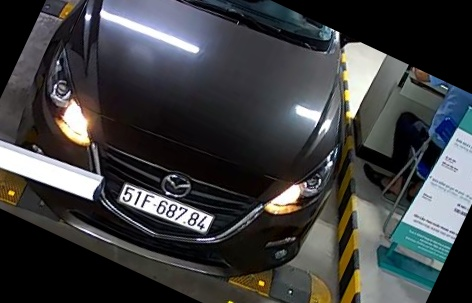plate: (114, 177, 224, 239)
